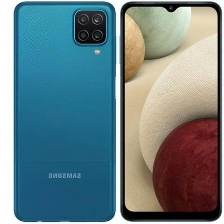phone: (9, 0, 119, 222), (119, 0, 223, 223)
